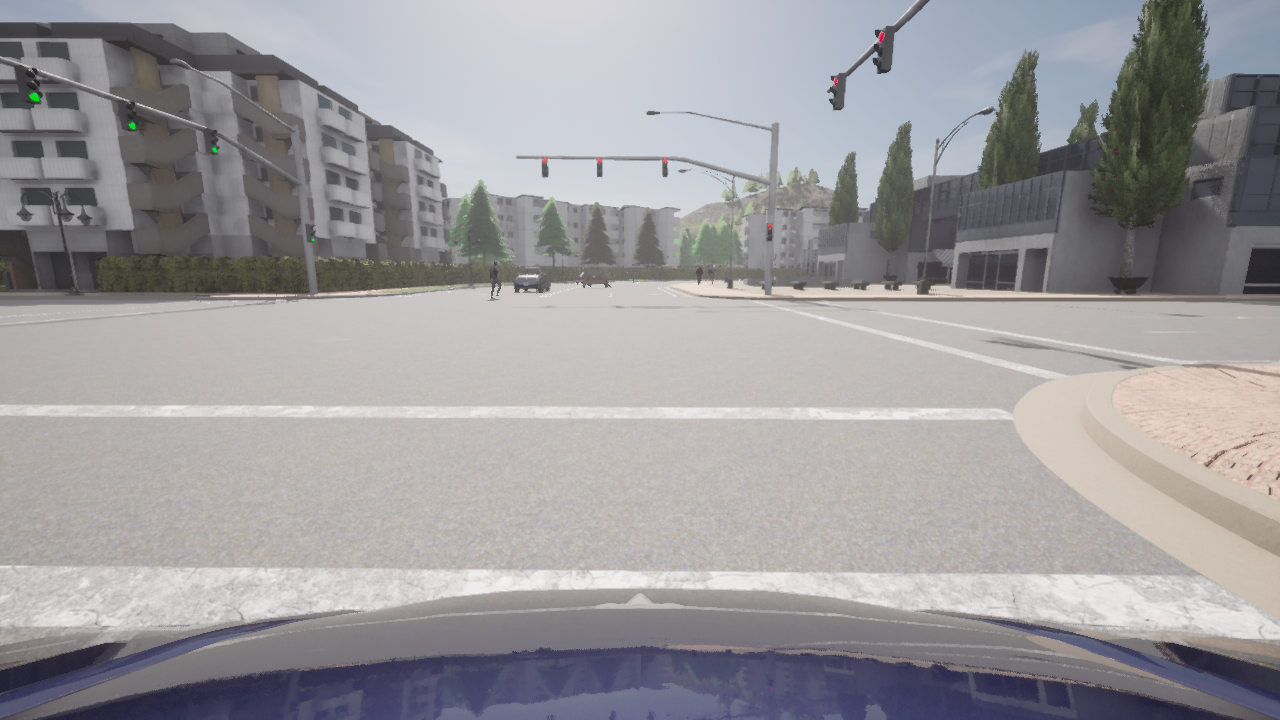cyclist: (0, 588, 1279, 719), (513, 267, 549, 292), (582, 267, 611, 287), (575, 271, 585, 283)
pedestrian: (488, 259, 501, 298), (709, 263, 718, 286), (695, 265, 702, 285), (762, 273, 763, 278)
